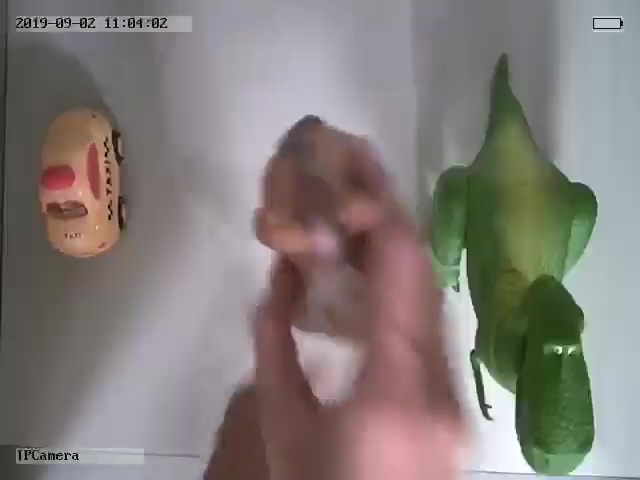car: (39, 105, 128, 259)
rex: (425, 52, 598, 476)
